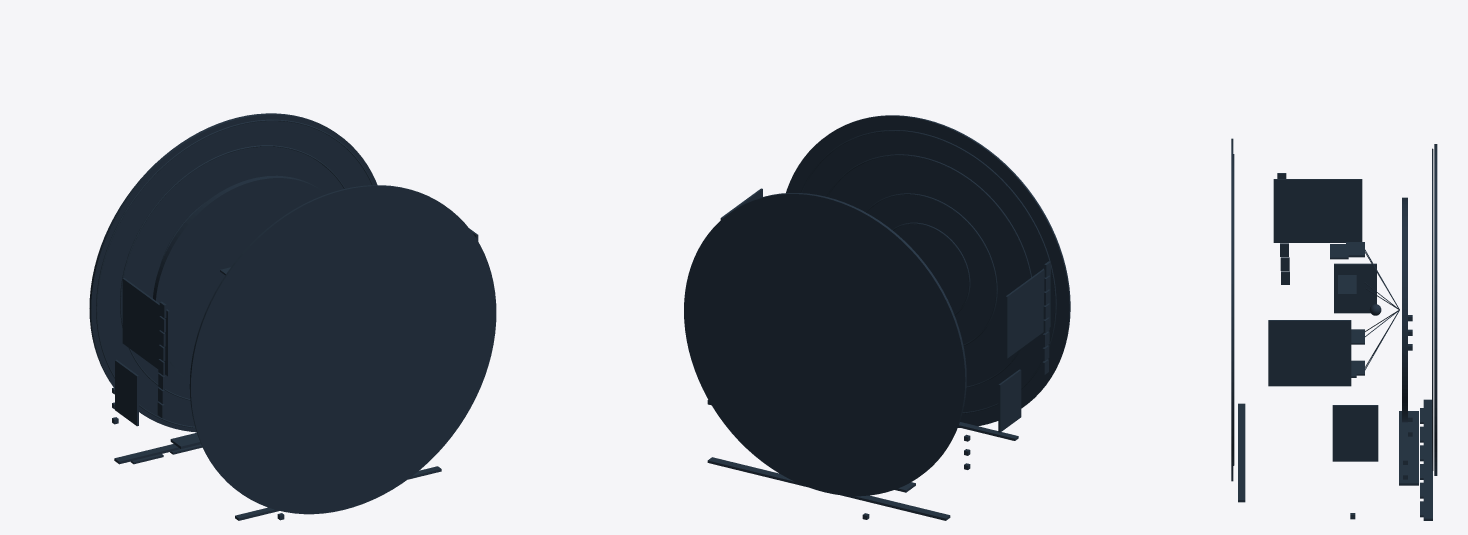
Rendered from 05_operations_war_room.glb.
The picture shows the model from 3 angles, left to right: view 1: azimuth 30°, elevation 25°; view 2: azimuth 150°, elevation 25°; view 3: azimuth 270°, elevation 25°; orthographic projection. The views are drawn at different scales.
Parts seen in each view (by area): view 1: 05_operations_war_room__circular_command_floor_black_chrome; view 2: 05_operations_war_room__circular_command_floor_black_chrome; view 3: 05_operations_war_room__circular_command_floor_black_chrome.
Part boxes in pixels (x1,y1,x2,y2): 05_operations_war_room__circular_command_floor_black_chrome: [89, 113, 496, 520]; 05_operations_war_room__circular_command_floor_black_chrome: [684, 115, 1070, 520]; 05_operations_war_room__circular_command_floor_black_chrome: [1231, 138, 1437, 520].
Bounding box in the file's own units: 18 × 16.59 × 10.13.
